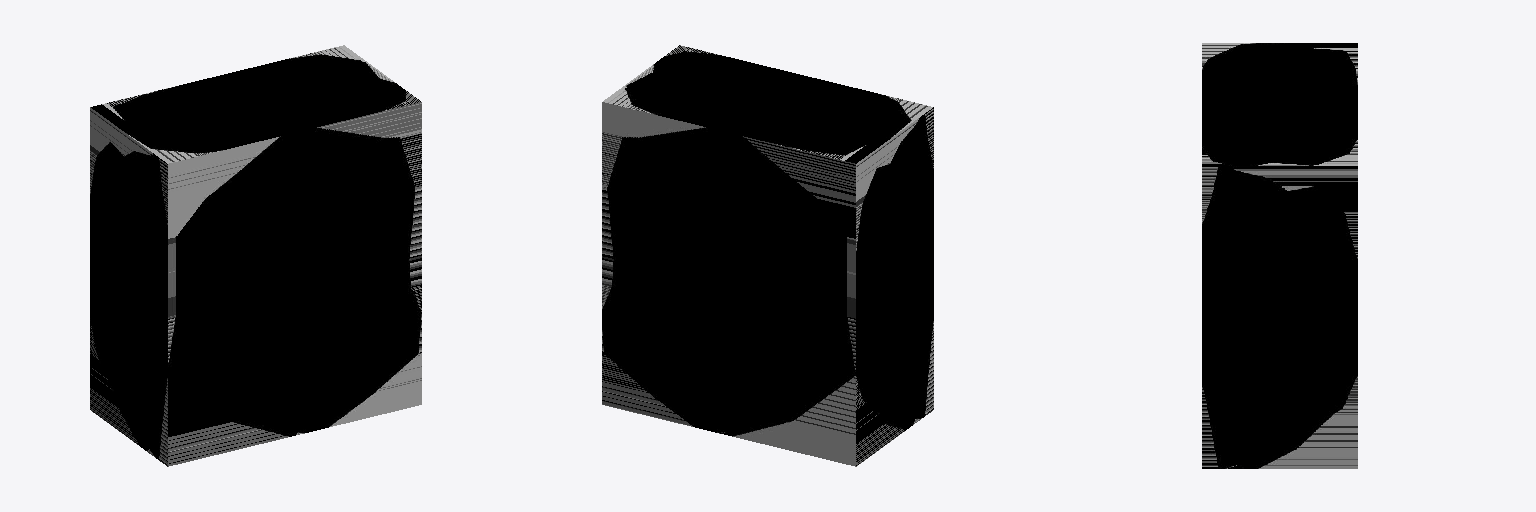
3 views of the same model, side by side, from view 1: azimuth 30°, elevation 25°; view 2: azimuth 150°, elevation 25°; view 3: azimuth 270°, elevation 25° (orthographic).
Parts seen in each view (by area): view 1: 270, 180, up; view 2: 90, 180, up; view 3: 0, up.
Part boxes in pixels (x1,y1,x2,y2): 270: (168,102,421,466); 180: (90,107,167,466); up: (91,45,420,163); 90: (602,102,855,466); 180: (856,107,933,466); up: (603,45,932,163); 0: (1202,166,1357,468); up: (1202,43,1357,165).
Size of the model in its own units: 3.18 by 3.63 by 1.68.
6 materials, 5 textured.